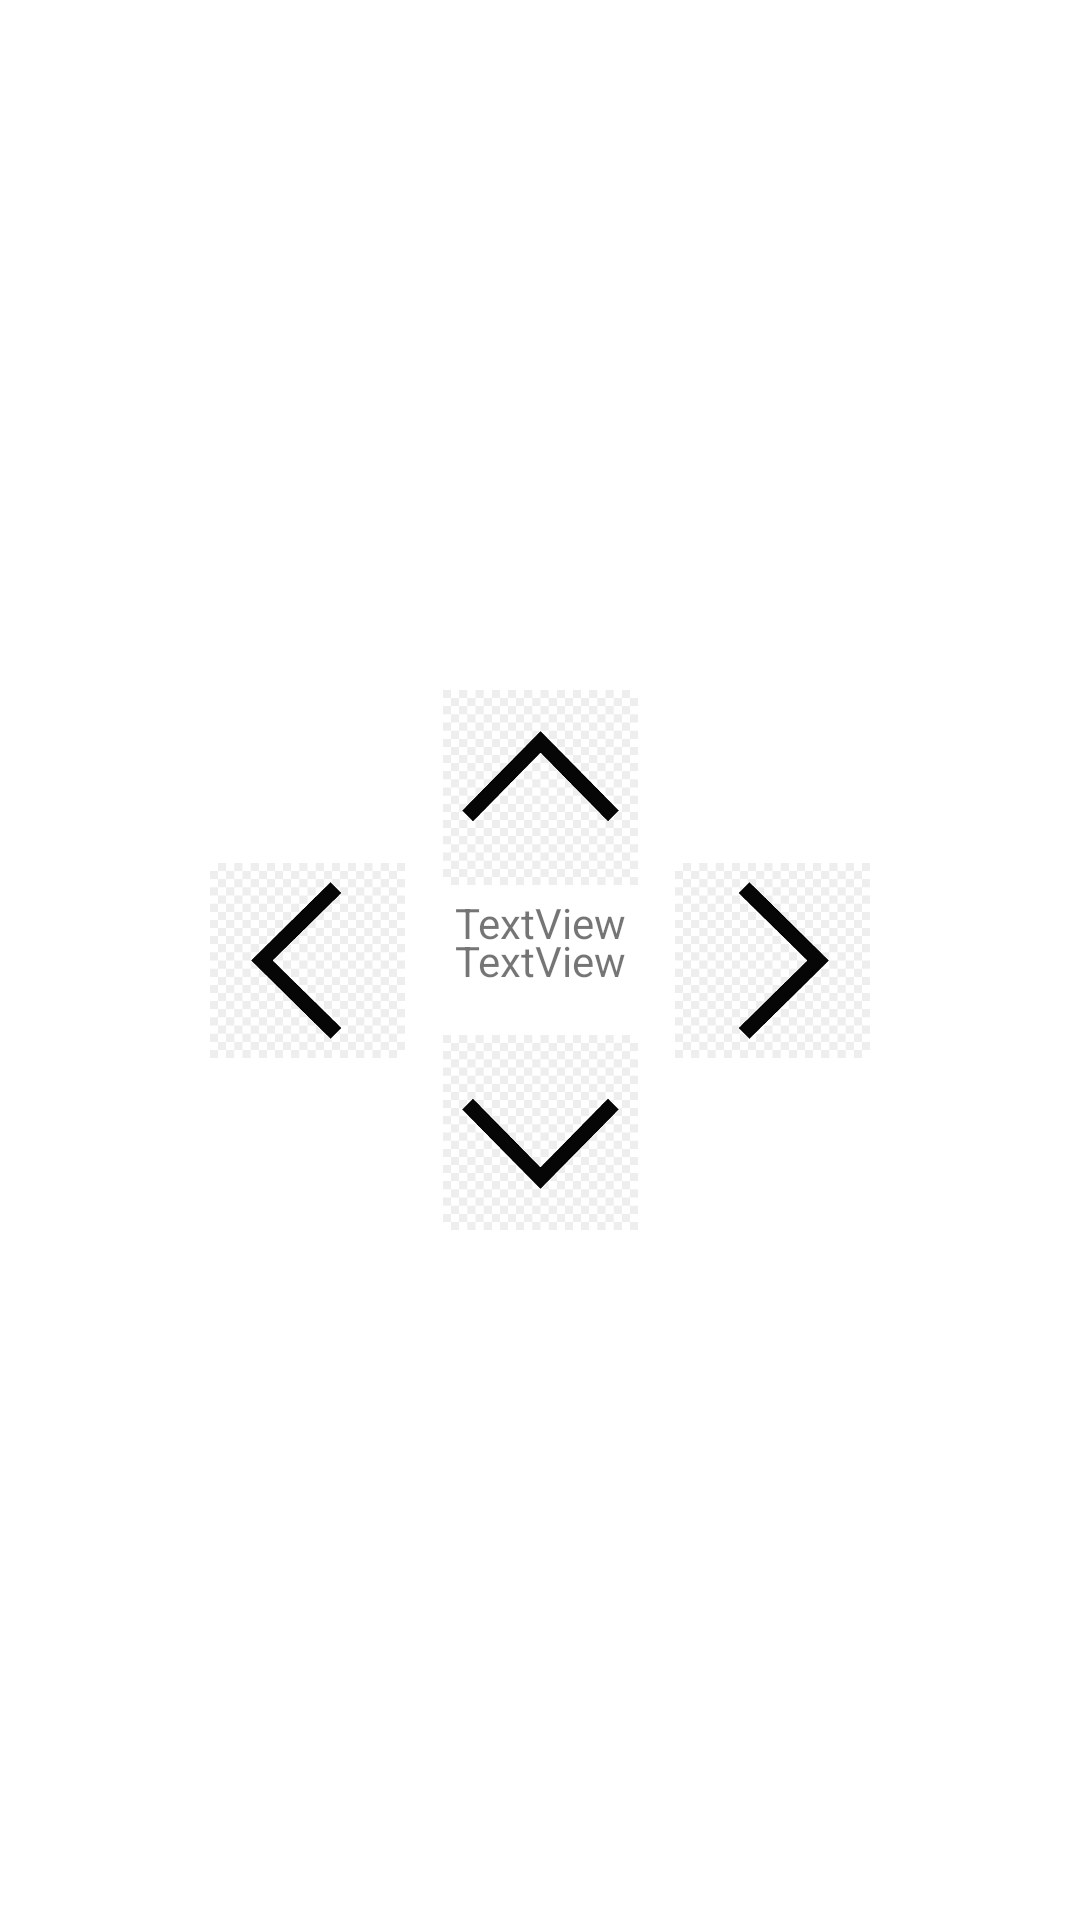

Named icons in this screenshot (1080 × 1920) and their centers, [x,y]:
arrow down: [540,1144]
arrow left: [296,960]
arrow right: [784,960]
arrow up: [540,776]
